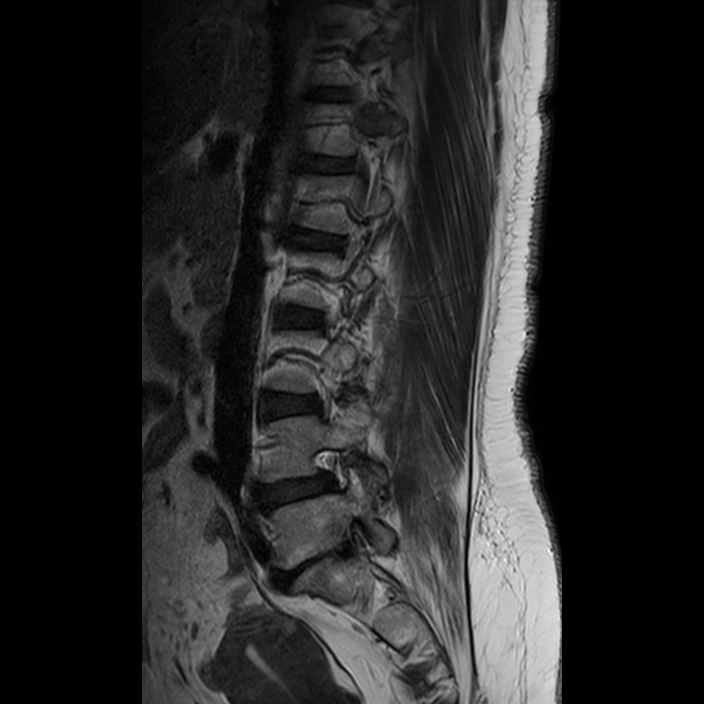RFS0: (299, 438, 359, 507)
